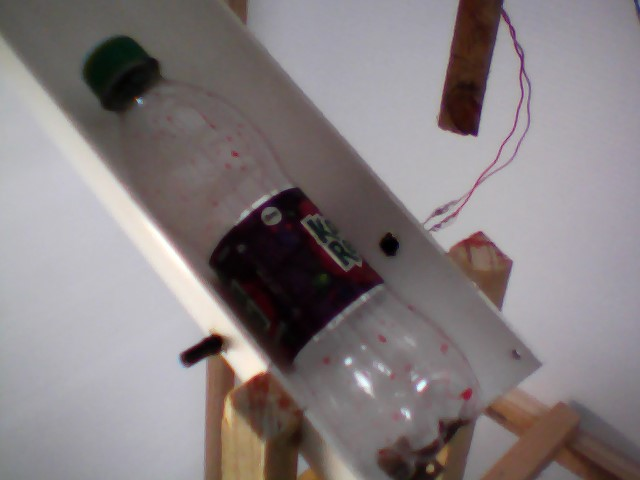plastico: (75, 34, 488, 480)
